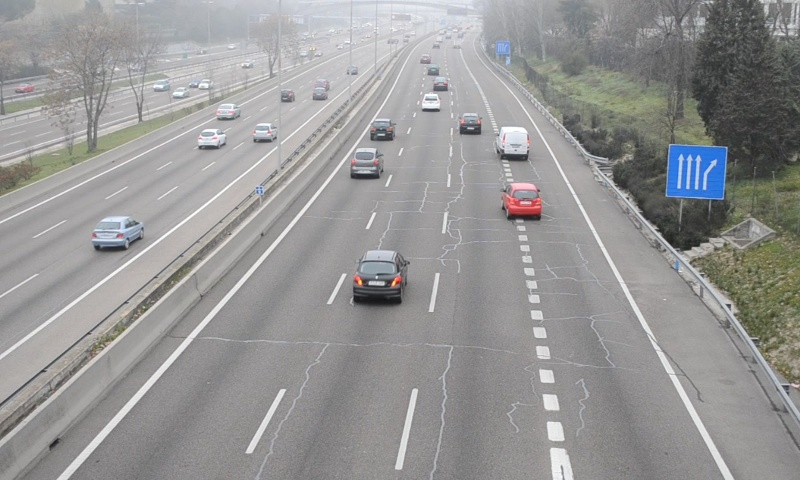car: (354, 251, 405, 301), (504, 181, 542, 219), (350, 147, 383, 180), (369, 118, 393, 141), (460, 112, 482, 134), (420, 91, 442, 112)
van: (496, 126, 530, 158)
